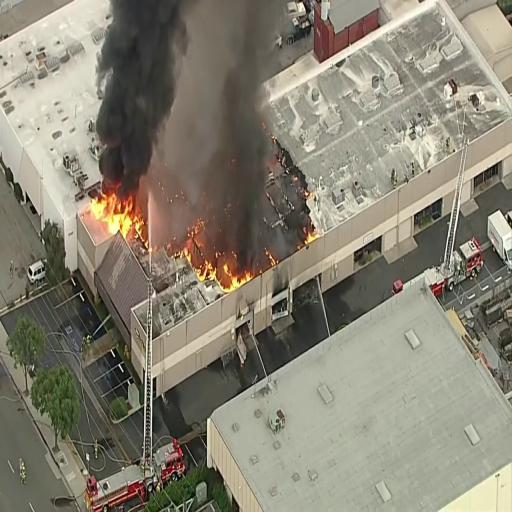fire: (98, 194, 159, 248)
smoke: (193, 0, 257, 242), (106, 2, 168, 209)
